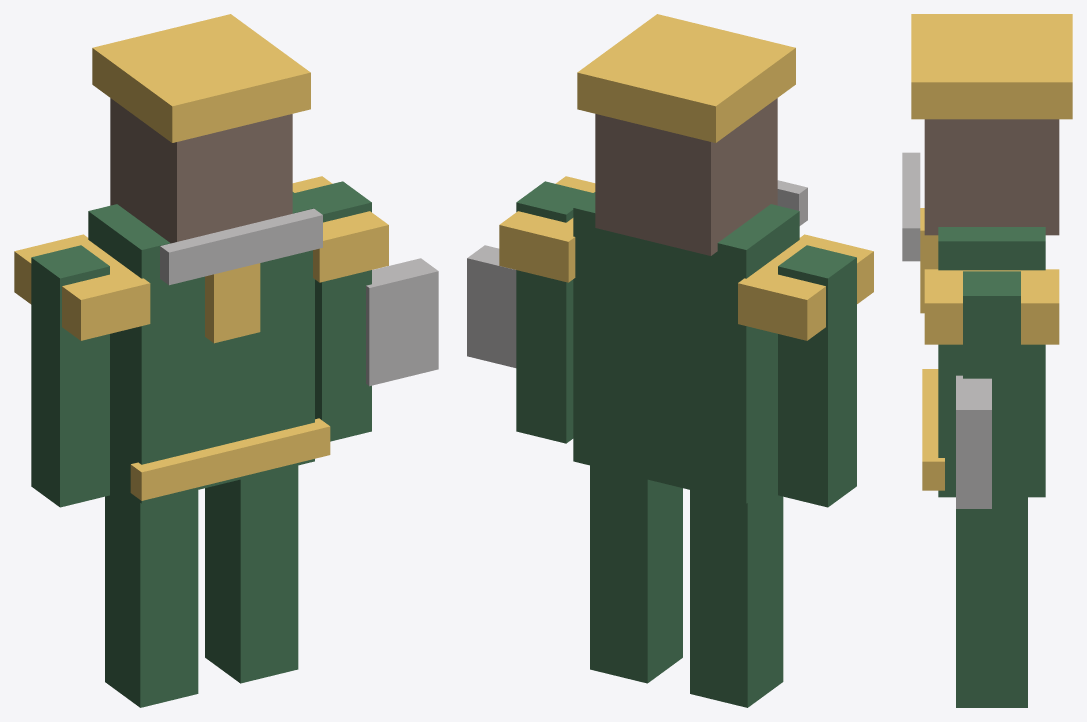
Rendered from 20_ren_stormhush_tamer_under_canopy.glb.
3 renders of one model, left to right at view 1: azimuth 30°, elevation 25°; view 2: azimuth 150°, elevation 25°; view 3: azimuth 270°, elevation 25°, orthographic.
Parts seen in each view (by area): view 1: Ren Stormhush, Tamer under Canopy; view 2: Ren Stormhush, Tamer under Canopy; view 3: Ren Stormhush, Tamer under Canopy.
Part boxes in pixels (box(x1,y1,x2,y2)): Ren Stormhush, Tamer under Canopy: box(14, 14, 438, 707); Ren Stormhush, Tamer under Canopy: box(467, 14, 873, 707); Ren Stormhush, Tamer under Canopy: box(902, 14, 1072, 707).
Bounding box in the file's own units: 0.9179 × 1.44 × 0.3578.
